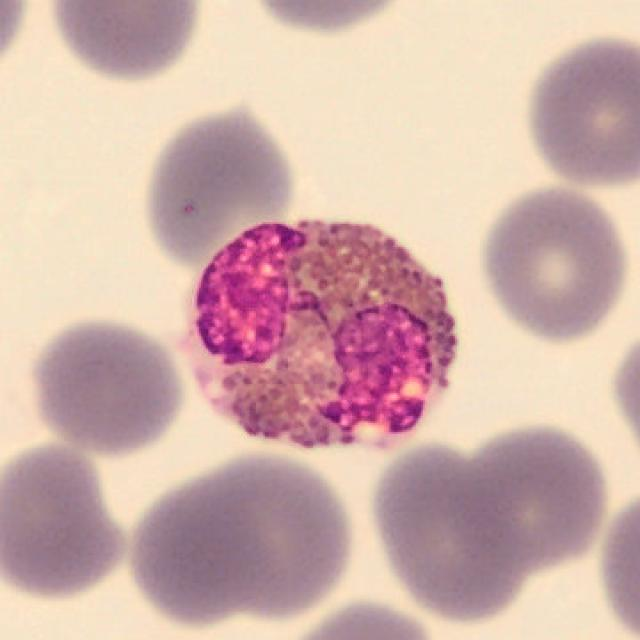Eosinofilo: (180, 220, 459, 450)
